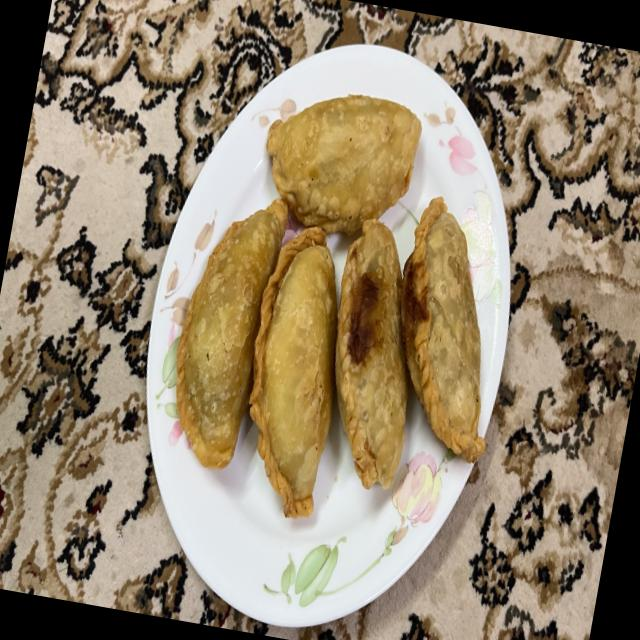karipap: (175, 199, 288, 469), (249, 226, 337, 519), (400, 196, 485, 464), (265, 94, 421, 234), (335, 218, 407, 489)
